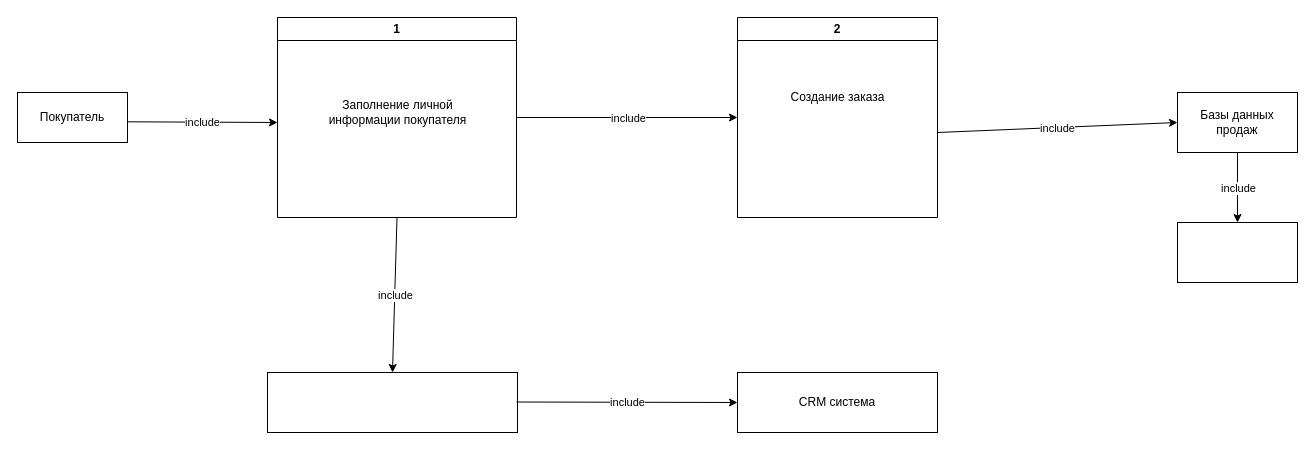
The diagram is 1315 pixels wide and 450 high, and some of its shapes have lost their labels. The shapes that lost their labels are listed below. From the top down, each one's centre as x and y in pixels, then its label:
At point 1237,252: "Финансовый отчёт".
At point 392,402: "База данных покупателей".
